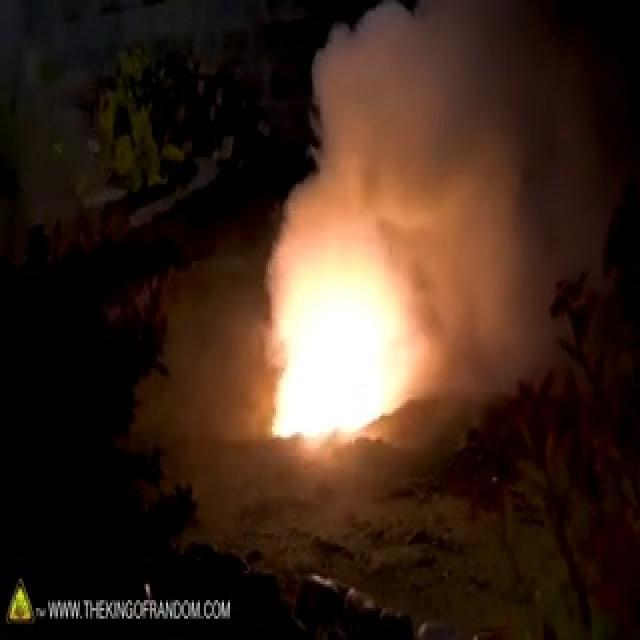fire: (272, 231, 402, 436)
